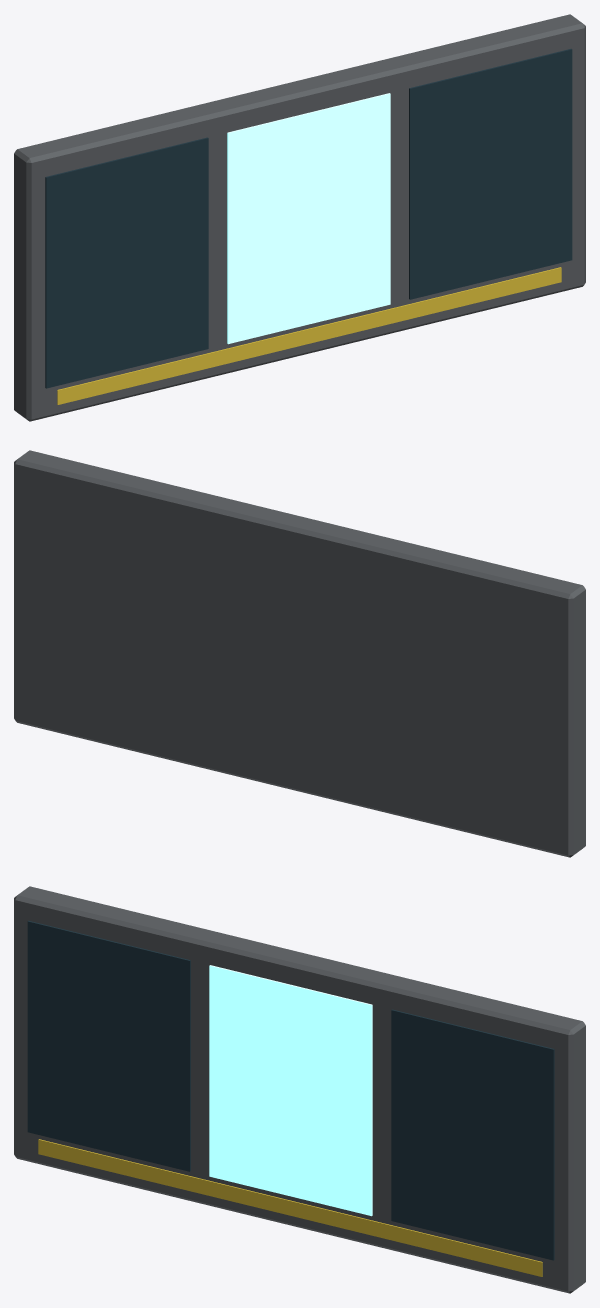
File: wall_screen_bank.glb
3 views of the same model, one above another, from view 1: azimuth 30°, elevation 25°; view 2: azimuth 150°, elevation 25°; view 3: azimuth 330°, elevation 25° (orthographic).
Visible parts, largest first — view 1: wall_screen_bank; view 2: wall_screen_bank; view 3: wall_screen_bank.
Boxes of the visible parts, x1,y1,x2,y2 form: wall_screen_bank: [14, 14, 585, 421]; wall_screen_bank: [14, 450, 585, 857]; wall_screen_bank: [14, 886, 585, 1293].
Bounding box in the file's own units: 2 × 0.9 × 0.11.
